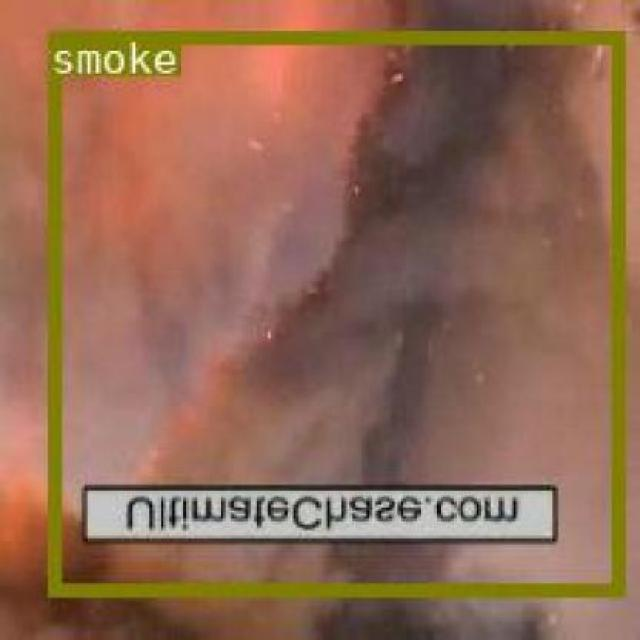smoke: (47, 30, 624, 595)
